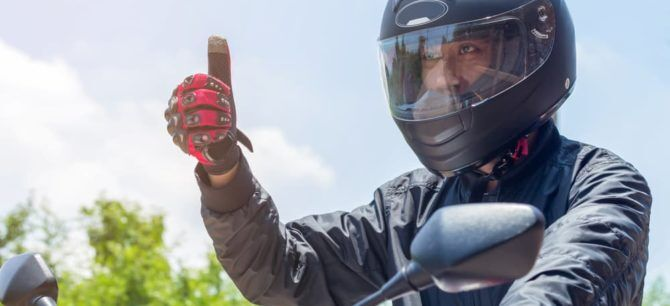helmets: (357, 0, 610, 177)
